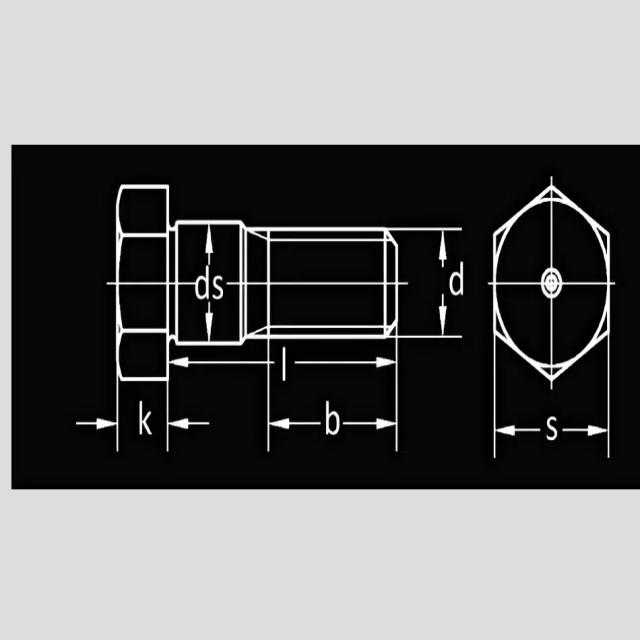marking_line: (265, 343, 402, 453), (400, 224, 464, 341), (170, 354, 400, 378), (556, 385, 613, 461), (490, 381, 542, 463), (165, 383, 213, 453), (294, 344, 400, 374), (400, 292, 462, 340), (78, 382, 120, 451), (401, 226, 463, 266), (170, 355, 269, 373), (604, 338, 612, 470), (490, 338, 498, 465), (203, 227, 217, 266), (204, 302, 217, 342)
